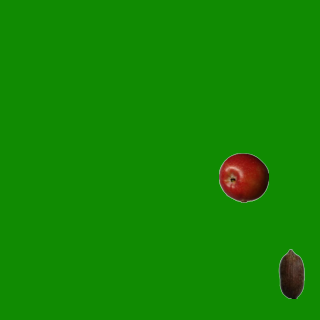Apple Braeburn: (218, 152, 268, 202)
Nut Pecan: (266, 248, 316, 298)
